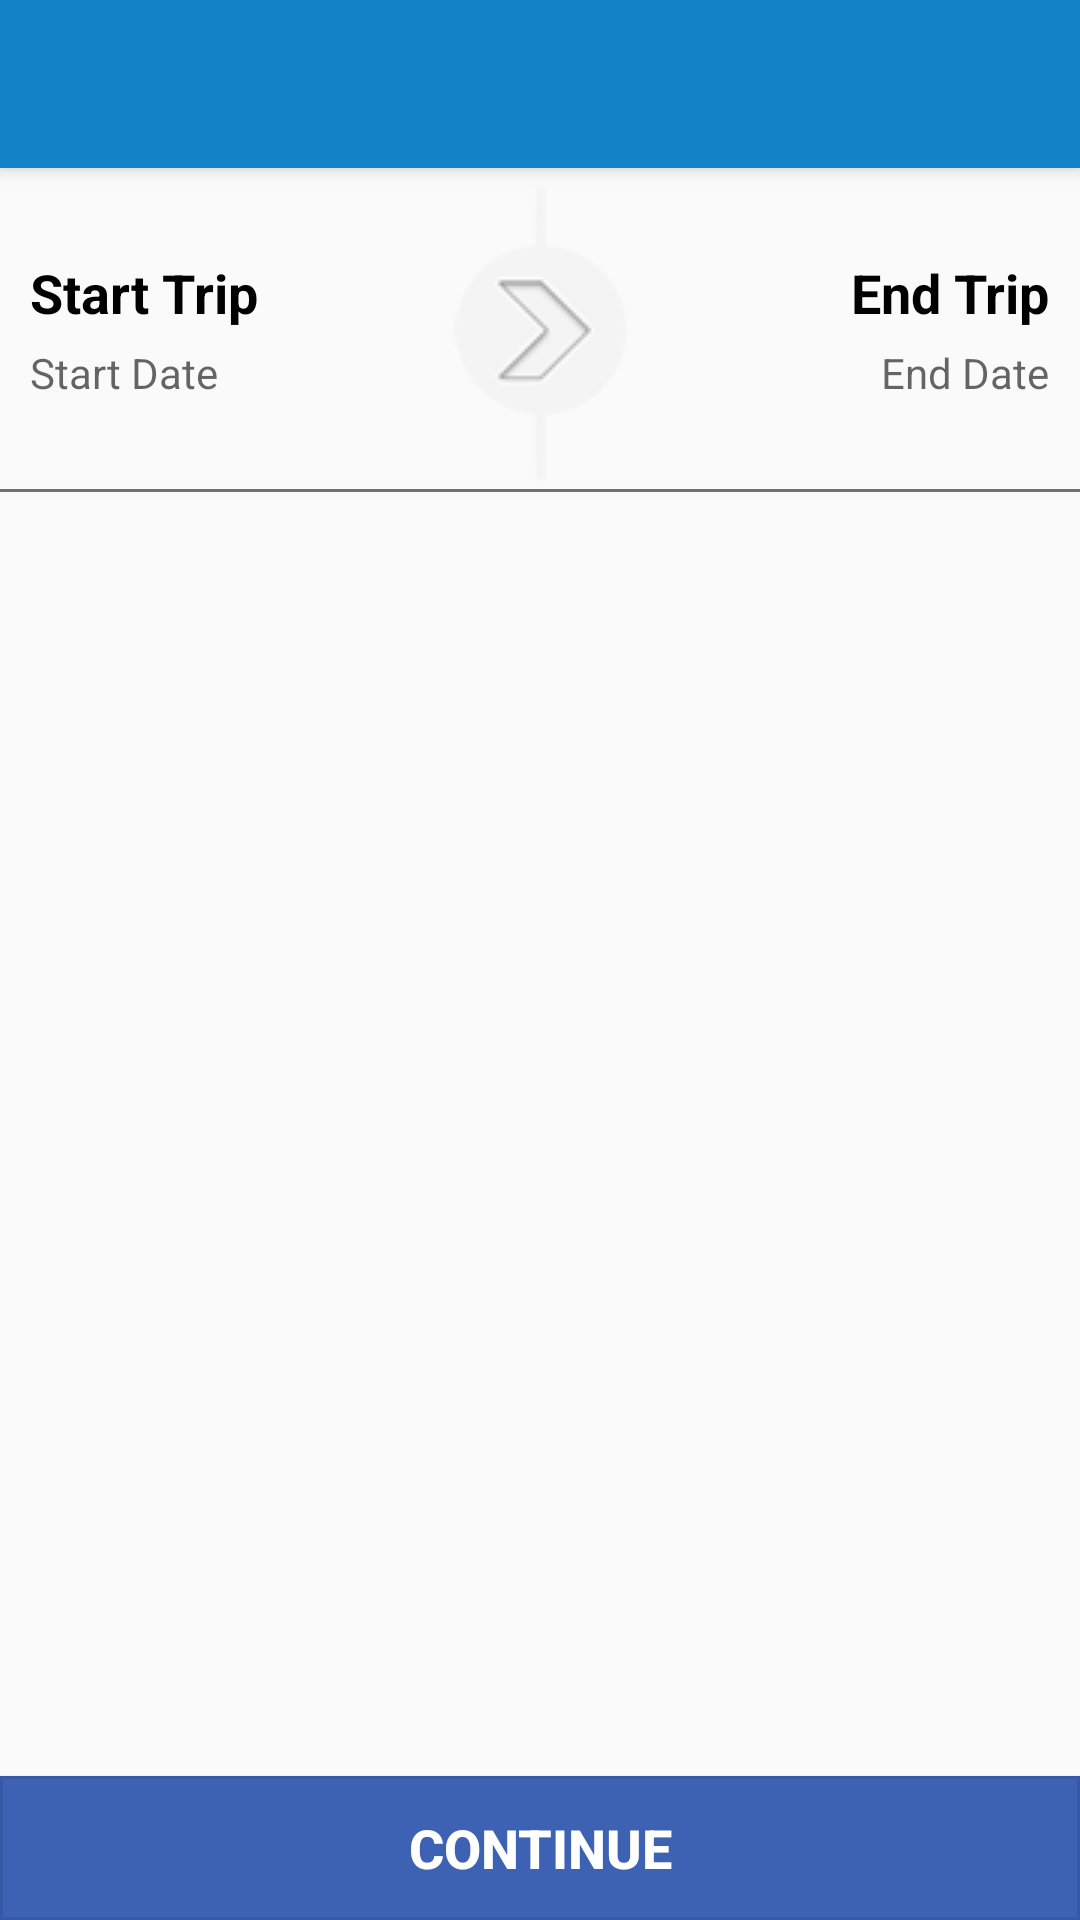

Icons on this 1080*1920 Android screen, each with the point to tap as (x=x, y=y):
circle seperator: (x=544, y=330)
